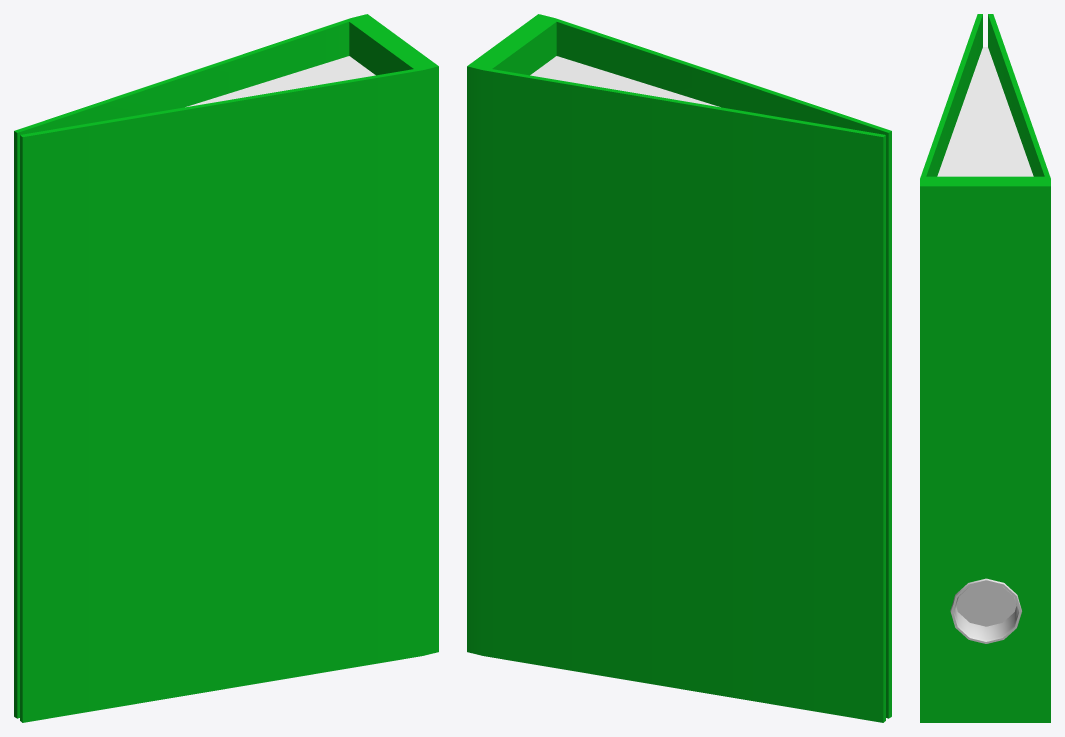
File: Carpeta07.fbx
The picture shows the model from 3 angles, left to right: view 1: azimuth 30°, elevation 25°; view 2: azimuth 150°, elevation 25°; view 3: azimuth 270°, elevation 25°; orthographic projection. The views are drawn at different scales.
Parts seen in each view (by area): view 1: Carpeta07; view 2: Carpeta07; view 3: Carpeta07.
Boxes of the visible parts, x1,y1,x2,y2 form: Carpeta07: [14, 14, 438, 722]; Carpeta07: [467, 14, 891, 722]; Carpeta07: [920, 14, 1050, 722].
Size of the model in its own units: 34.66 by 50.08 by 11.07.
